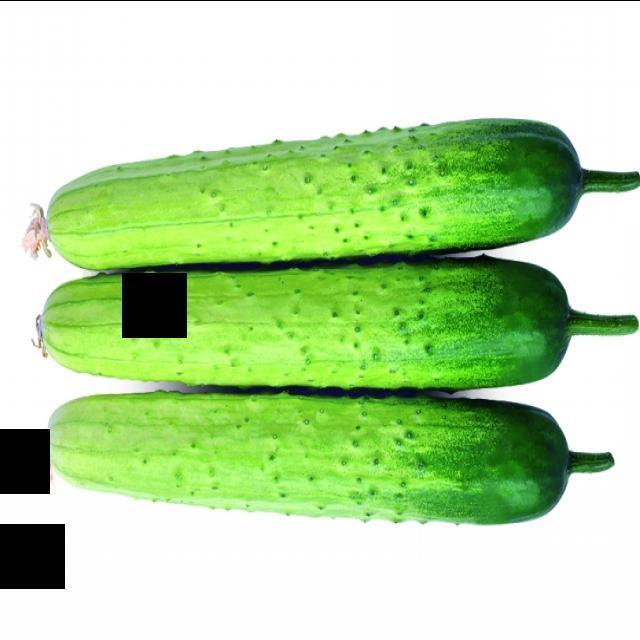cucumber: (16, 88, 640, 584), (10, 78, 640, 249), (6, 390, 617, 556)
